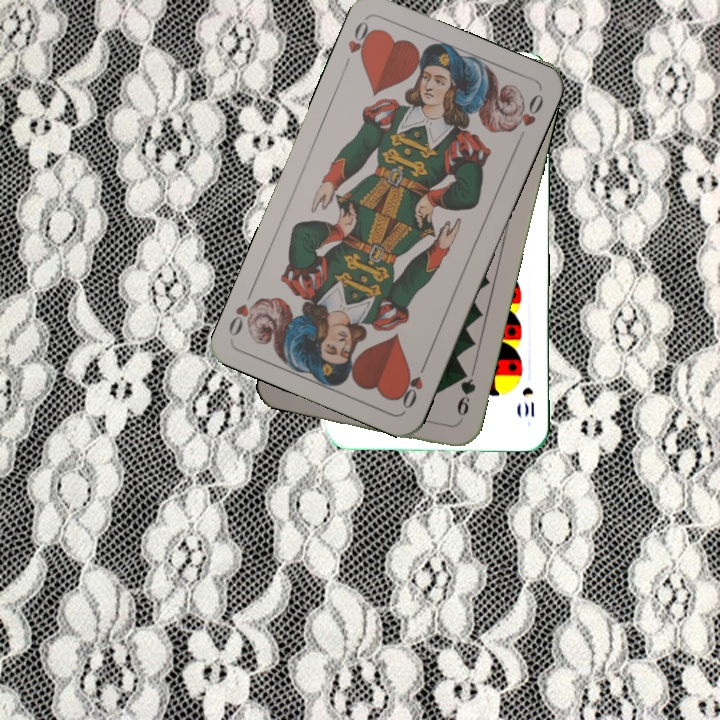G9: (453, 365, 479, 425)
HO: (339, 16, 378, 72), (395, 356, 430, 412)
S10: (518, 383, 537, 420)
